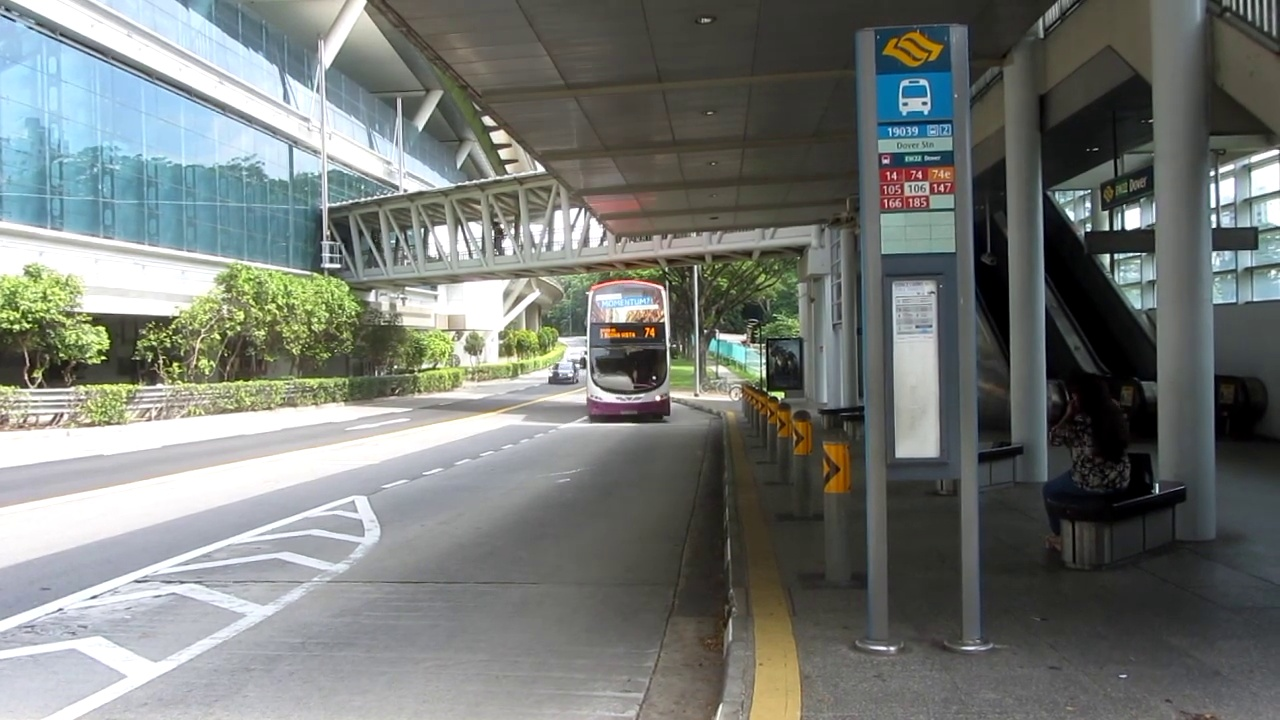bus panel: (598, 326, 658, 340)
